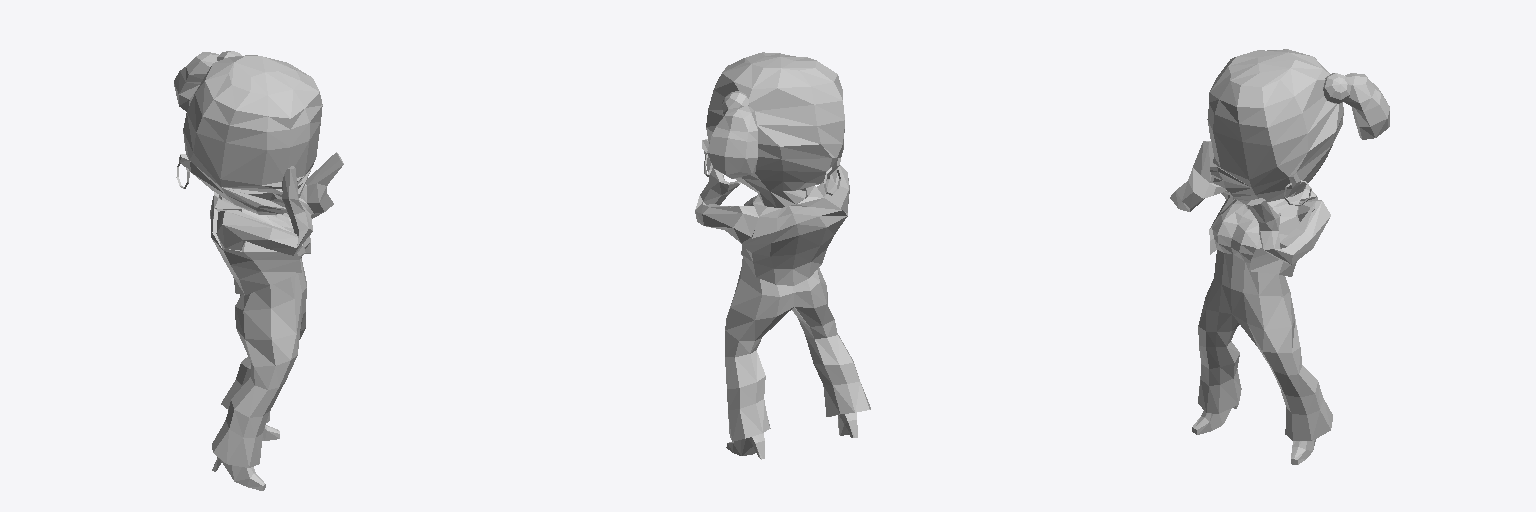
File: bailarina_000012.obj
3 renders of one model, left to right at view 1: azimuth 30°, elevation 25°; view 2: azimuth 150°, elevation 25°; view 3: azimuth 270°, elevation 25°, orthographic.
Visible parts, largest first — view 1: bAilarina:Mesh; view 2: bAilarina:Mesh; view 3: bAilarina:Mesh.
Boxes of the visible parts, x1=… form: bAilarina:Mesh: x1=174, y1=51, x2=343, y2=490; bAilarina:Mesh: x1=695, y1=52, x2=870, y2=459; bAilarina:Mesh: x1=1170, y1=49, x2=1389, y2=464.
Size of the model in its own units: 6.77 by 16.97 by 8.7.